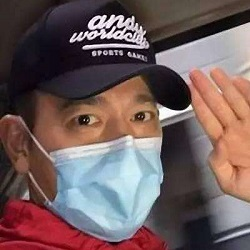mask: (37, 131, 164, 243)
